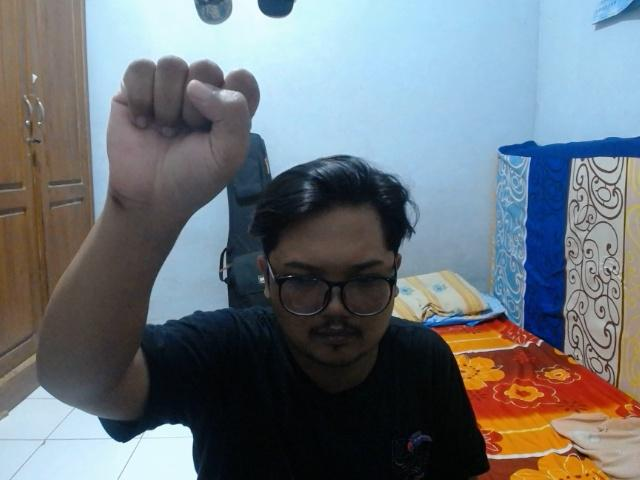Grab: (103, 52, 266, 219)
